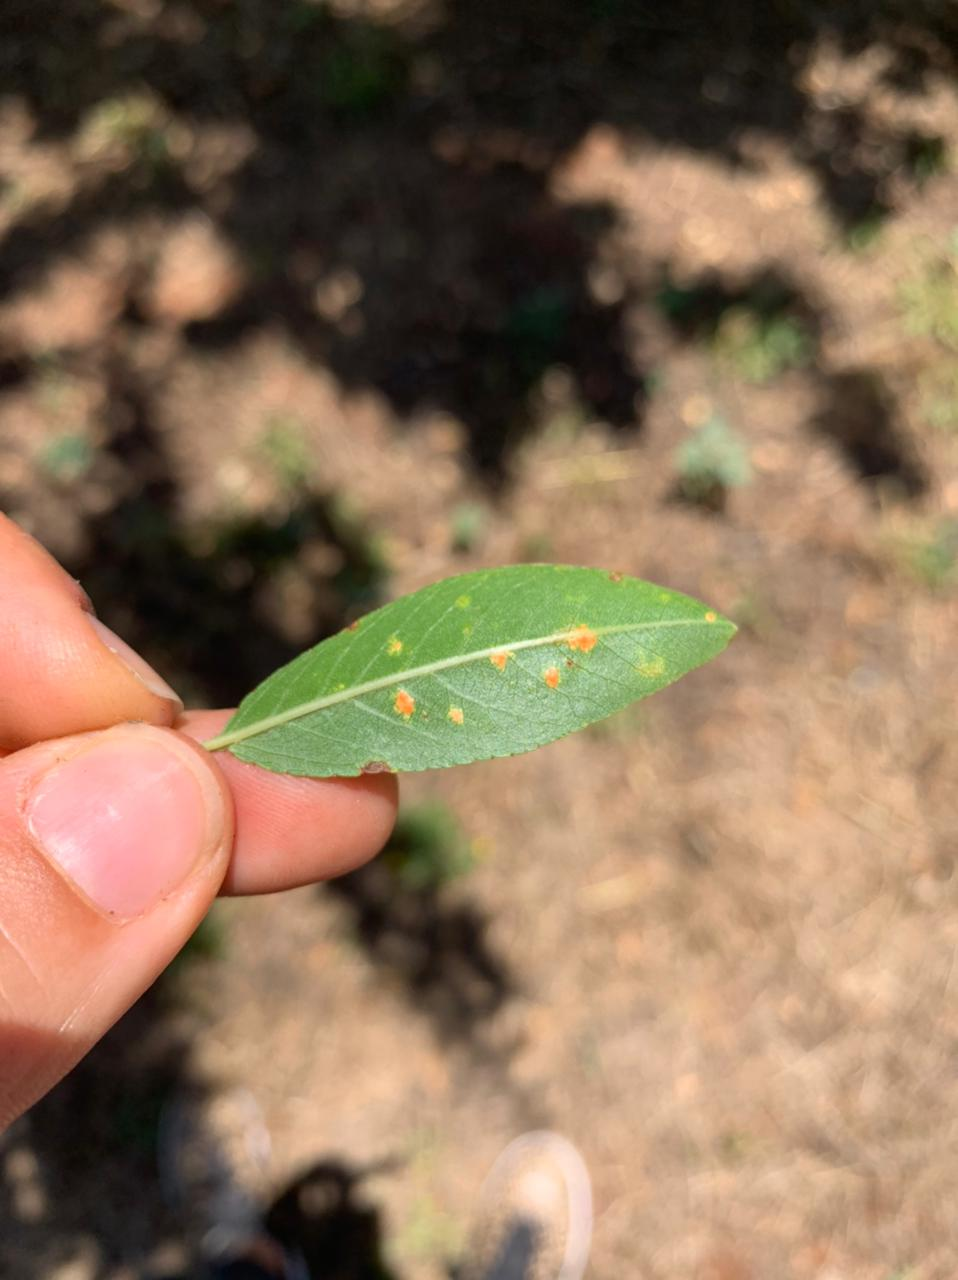polystigma: (218, 556, 740, 777)
